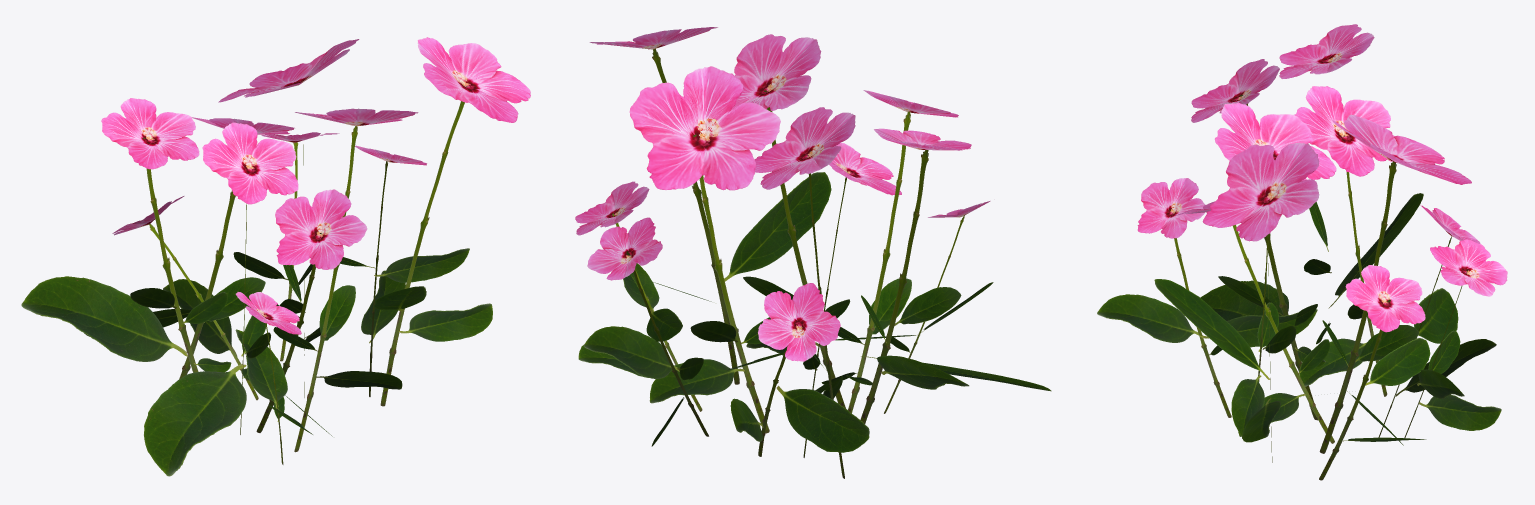
File: PinkFlower.fbx
3 views of the same model, side by side, from view 1: azimuth 30°, elevation 25°; view 2: azimuth 150°, elevation 25°; view 3: azimuth 270°, elevation 25° (orthographic). The views are drawn at different scales.
Visible parts, largest first — view 1: PinkFlower1.011; view 2: PinkFlower1.011; view 3: PinkFlower1.011.
Part boxes in pixels (x1,y1,x2,y2): PinkFlower1.011: (21, 37, 530, 476); PinkFlower1.011: (575, 27, 1051, 478); PinkFlower1.011: (1097, 24, 1507, 480).
Bounding box in the file's own units: 59.4 × 46.47 × 46.69.
